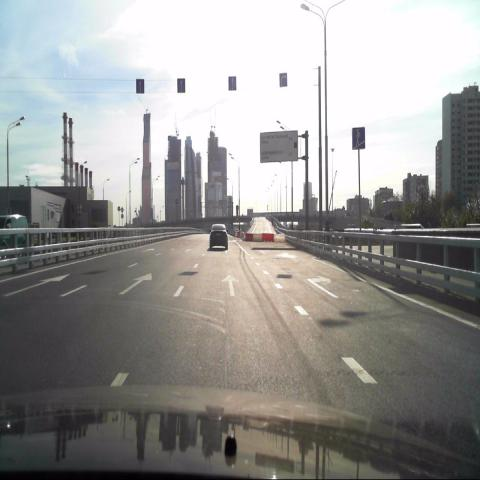6_6: (352, 126, 365, 150)
